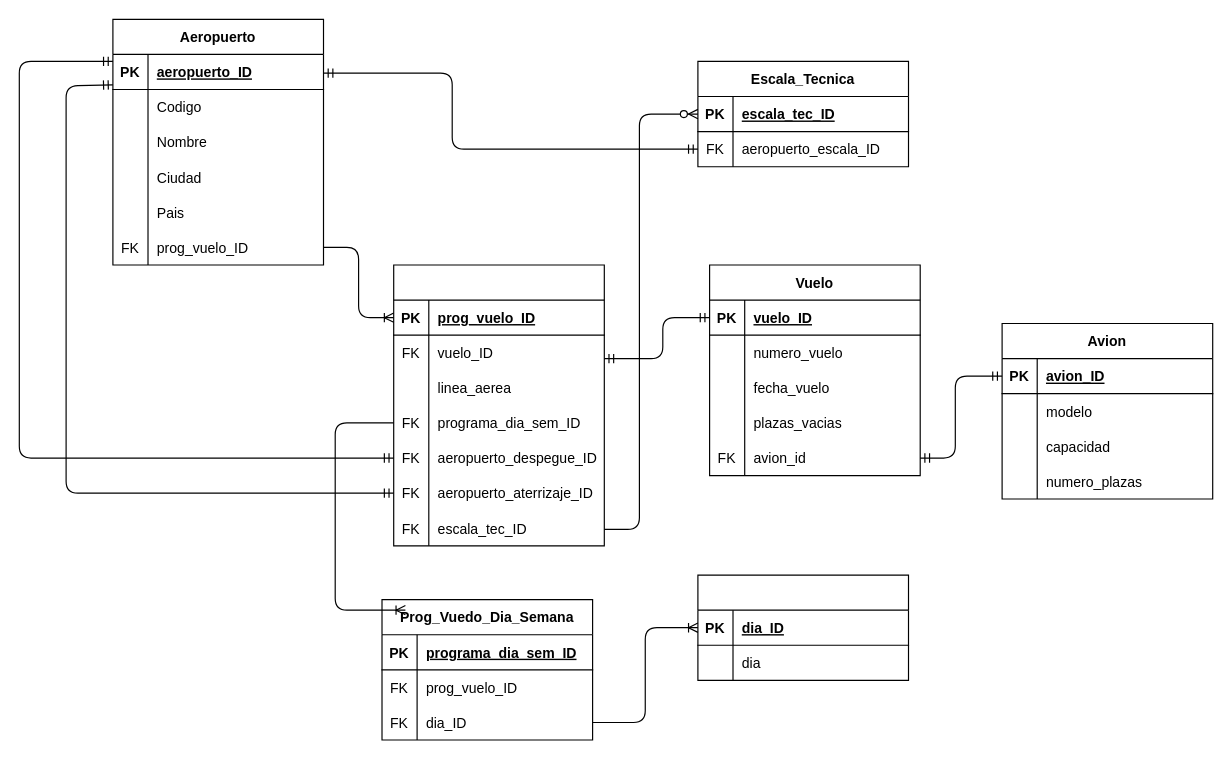
The diagram is 1232 pixels wide and 759 high, and some of its shapes have lost their labels. The box of each missing label's shape, as (x1, y1, x2, y2) in pixels:
Dia_Semana: (697, 574, 909, 680)
Programa_de_Vuelo: (393, 264, 604, 546)
